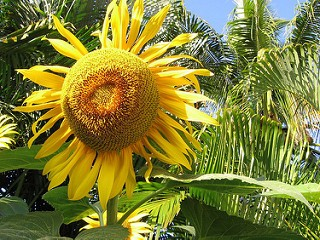flower: (13, 0, 220, 213), (0, 99, 20, 170)
